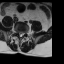CCS_normal: (20, 31, 21, 38)
LFS_severe_stenosis: (24, 31, 26, 35)
LLS_normal: (22, 31, 23, 37)
RFS_severe_stenosis: (17, 30, 18, 34)
RLS_normal: (18, 31, 20, 37)
